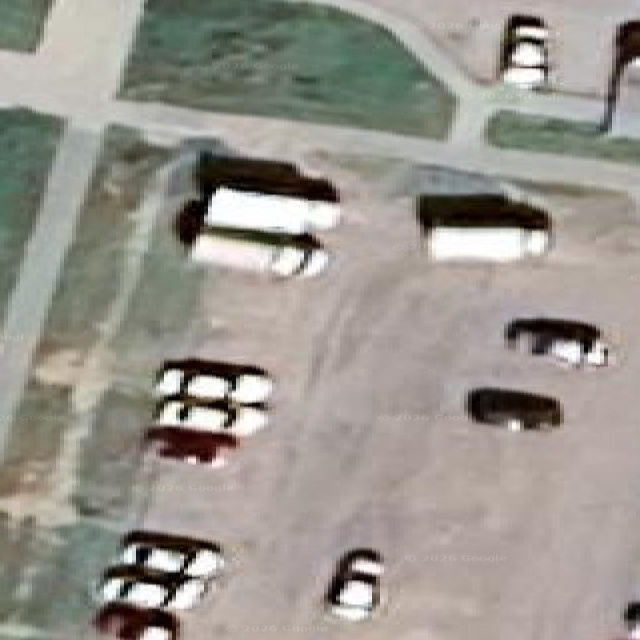car: (175, 201, 329, 277), (196, 153, 339, 233), (416, 194, 551, 262), (205, 185, 339, 233), (154, 358, 272, 403), (505, 317, 611, 367), (117, 530, 224, 579), (96, 565, 206, 609), (153, 396, 267, 436), (467, 387, 562, 430), (326, 549, 383, 620), (145, 427, 237, 467), (500, 16, 549, 89), (93, 602, 179, 639), (623, 601, 639, 639)
